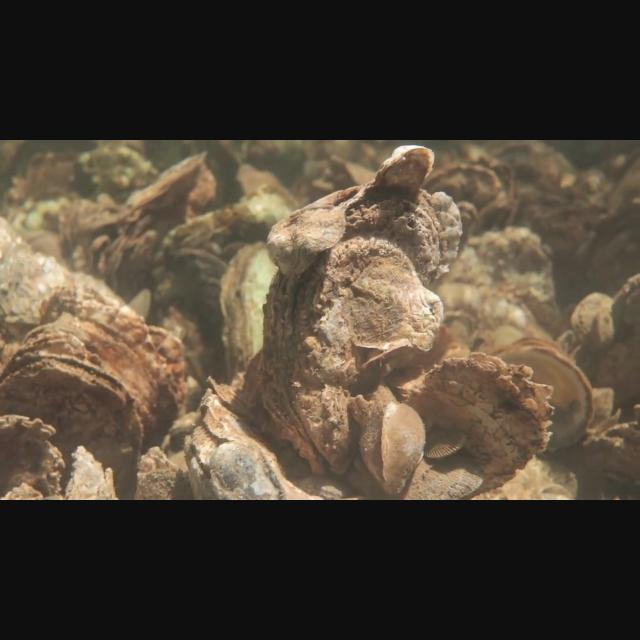Oyster-Closed: (260, 145, 469, 474), (143, 185, 294, 378), (395, 349, 561, 496), (37, 282, 191, 440), (2, 351, 148, 500), (179, 377, 328, 499), (1, 216, 132, 341), (215, 234, 277, 375), (356, 383, 427, 493), (116, 150, 214, 216), (434, 158, 513, 236), (405, 449, 487, 499), (569, 285, 618, 349), (615, 273, 638, 342), (422, 432, 467, 459)
